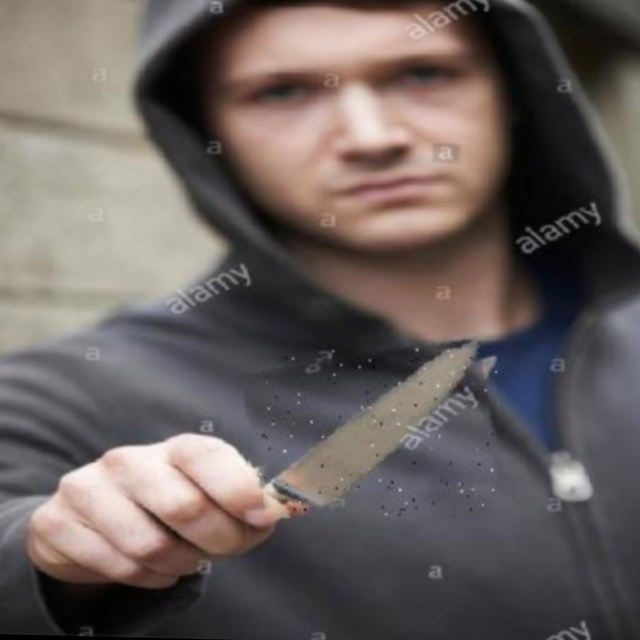Sharp-Object: (244, 343, 498, 518)
